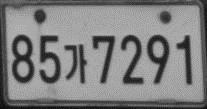1: (175, 33, 193, 84)
2: (120, 33, 144, 85)
5: (38, 34, 61, 83)
7: (92, 34, 115, 83)
8: (10, 33, 34, 83)
9: (145, 33, 170, 84)
가: (63, 43, 87, 84)
